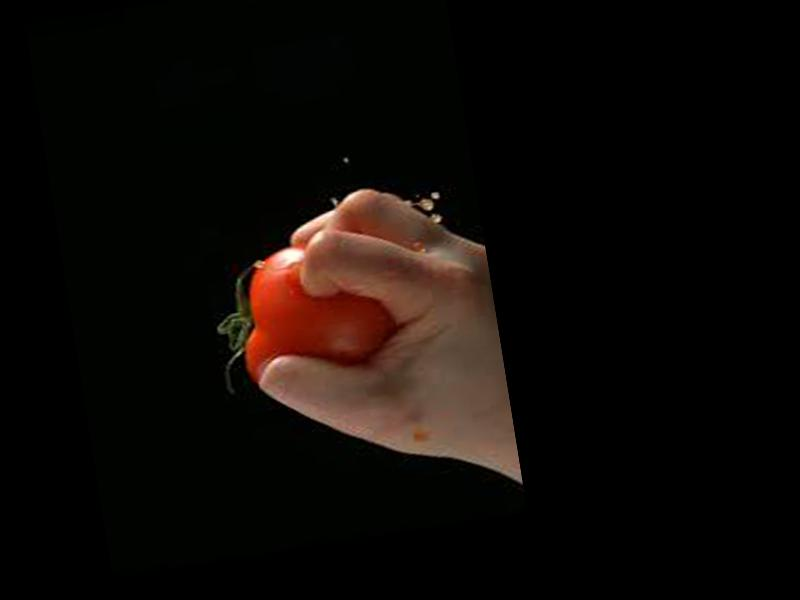Tomato: (229, 233, 400, 385)
